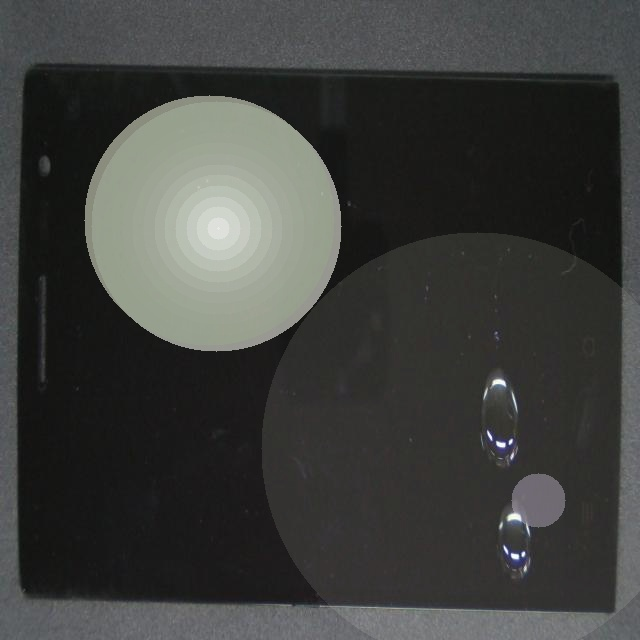oil: (277, 253, 640, 640), (267, 200, 640, 571)
